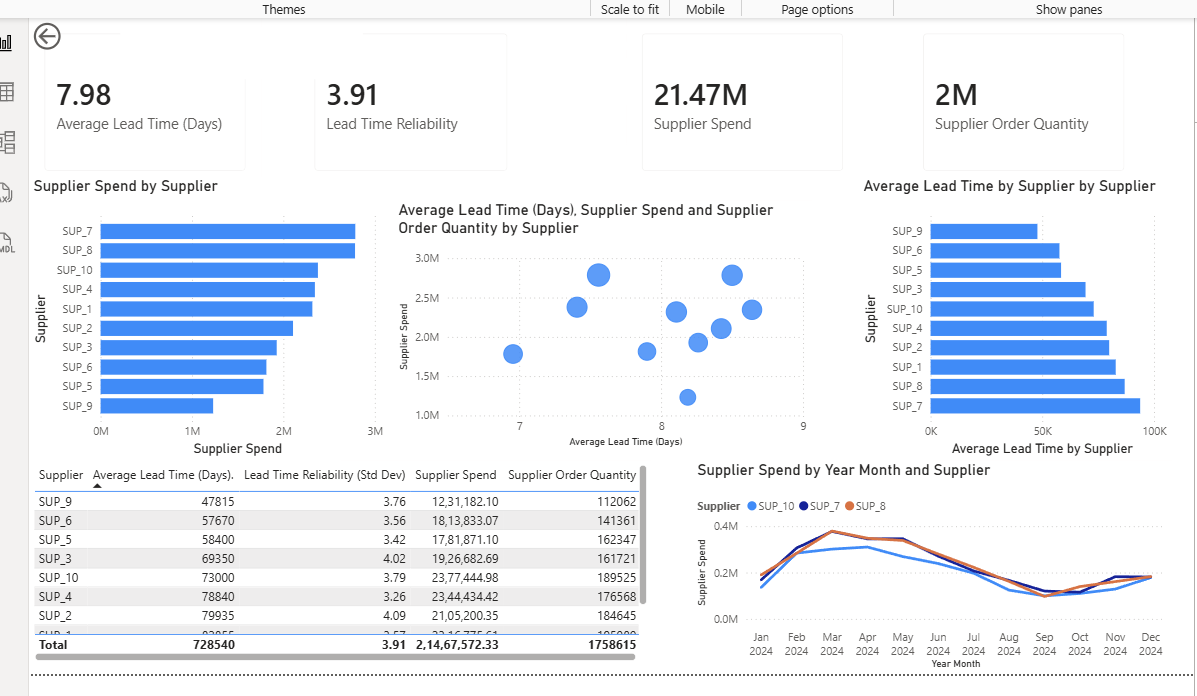

Layout of this report page (visuals, bound fields, positions):
{"tool":"powerbi","page":{"name":"Supplier Performance","canvas":[1280,720],"ordinal":3},"visuals":[{"type":"cardVisual","fields":{"Data":["_Measures (2).Average Lead Time (Days)"]},"box":[0,0,255.2,185.2],"z":0},{"type":"cardVisual","fields":{"Data":["_Measures (2).Supplier Spend"]},"box":[655.9,0,255.2,185.2],"z":1000},{"type":"cardVisual","fields":{"Data":["_Measures (2).Lead Time Reliability (Std Dev)"]},"box":[296.4,0,247,185.2],"z":2000},{"type":"cardVisual","fields":{"Data":["_Measures (2).Supplier Order Quantity"]},"box":[964.7,0,255,185],"z":3000},{"type":"barChart","fields":{"Category":["Dim Supplier.Supplier"],"Y":["_Measures (2).Supplier Spend"]},"box":[0,174.3,393.8,311.5],"z":4000},{"type":"scatterChart","fields":{"Y":["_Measures (2).Supplier Spend"],"Category":["Dim Supplier.Supplier"],"Size":["_Measures (2).Supplier Order Quantity"],"X":["_Measures (2).Average Lead Time (Days)"]},"box":[400.7,200.3,458.3,275.8],"z":5000},{"type":"tableEx","fields":{"Values":["Dim Supplier.Supplier","Sum(Fact Supply Chain.Lead Time(Days))","_Measures (2).Lead Time Reliability (Std Dev)","_Measures (2).Supplier Spend","_Measures (2).Supplier Order Quantity"]},"box":[0,485.8,683.4,225],"z":6000},{"type":"actionButton","box":[0,0,100,40],"z":7000},{"type":"barChart","fields":{"Category":["Dim Supplier.Supplier"],"Y":["Sum(Fact Supply Chain.Lead Time(Days))"]},"box":[911.2,174.3,343.1,311.5],"z":8000},{"type":"lineChart","fields":{"Category":["Dim Date.Year Month"],"Y":["_Measures (2).Supplier Spend"],"Series":["Dim Supplier.Supplier"]},"box":[728.6,485.8,525.6,234.6],"z":9000},{"type":"textbox","box":[100.2,9.6,266.2,57.6],"z":9001}]}

Visuals, with their boxes on the page's 1280x720 design canvas (x1, y1, x2, y2). These are canvas units, not pixel positions in the 1197x696 screenshot, which may show the page scaled, cropped or inside an application window:
cardVisual - _Measures (2).Average Lead Time (Days): [0, 0, 255, 185]
cardVisual - _Measures (2).Supplier Spend: [656, 0, 911, 185]
cardVisual - _Measures (2).Lead Time Reliability (Std Dev): [296, 0, 543, 185]
cardVisual - _Measures (2).Supplier Order Quantity: [965, 0, 1220, 185]
barChart - Dim Supplier.Supplier x _Measures (2).Supplier Spend: [0, 174, 394, 486]
scatterChart - _Measures (2).Supplier Spend x Dim Supplier.Supplier: [401, 200, 859, 476]
tableEx - Dim Supplier.Supplier x Sum(Fact Supply Chain.Lead Time(Days)): [0, 486, 683, 711]
actionButton: [0, 0, 100, 40]
barChart - Dim Supplier.Supplier x Sum(Fact Supply Chain.Lead Time(Days)): [911, 174, 1254, 486]
lineChart - Dim Date.Year Month x _Measures (2).Supplier Spend: [729, 486, 1254, 720]
textbox: [100, 10, 366, 67]
